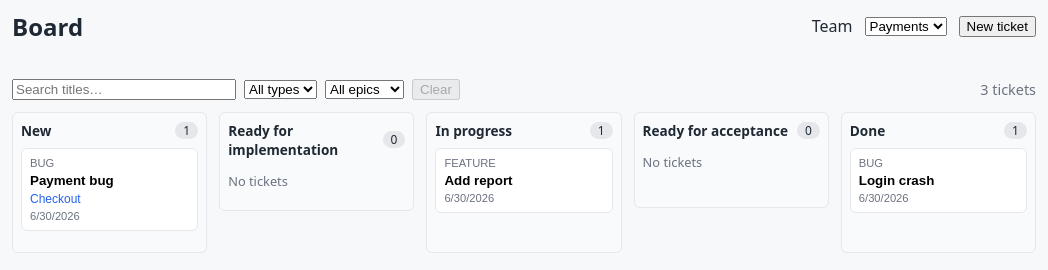
Test: Board filters (HTS-030) › clears all filters and restores the board (boundary)
This screenshot has width=1048, height=270.
Expected: the text "Payment bug" is shown, [30,173,114,188]
Select "Bug" in the dropdown named "Filter by type" at (280, 89), box [244,80,317,99]
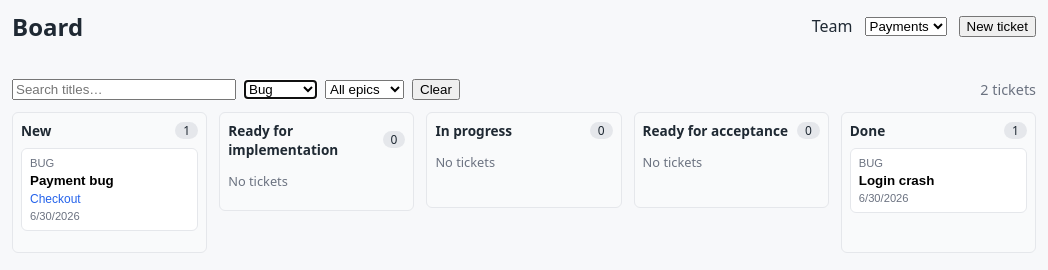
Expected: the text named "Result count" shows "2", [980,80,988,99]
Click the button "Clear".
click(436, 89)  # box [412,79,460,100]
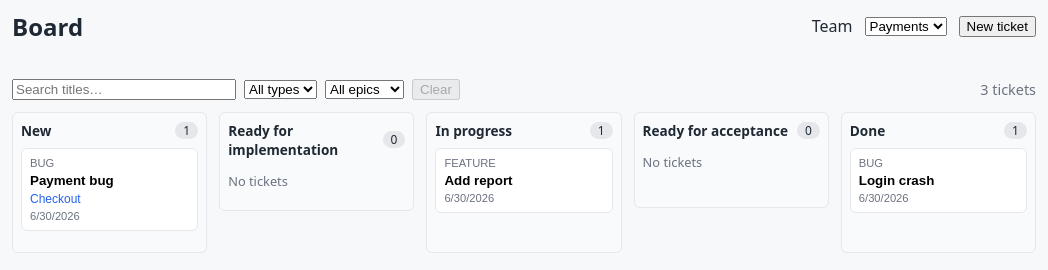
Expected: the text named "Result count" shows "3", [980,80,988,99]
